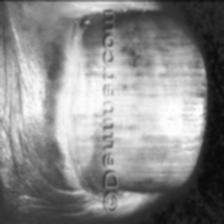Toxin: (75, 11, 194, 202)
